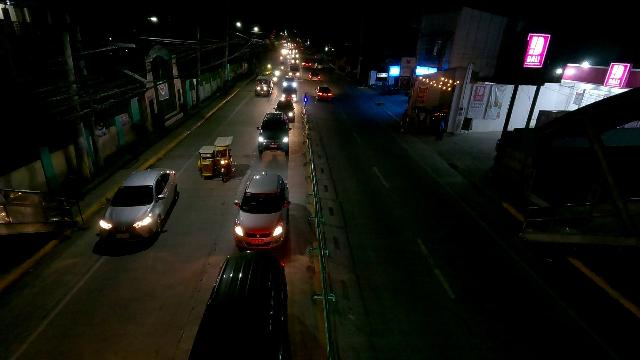car: (186, 249, 290, 360), (98, 168, 179, 241), (234, 171, 291, 250), (257, 112, 291, 156), (275, 97, 296, 121), (281, 77, 298, 93), (316, 85, 333, 100), (282, 86, 297, 103), (288, 64, 300, 79), (309, 71, 322, 80), (302, 60, 312, 67)
jeepney: (255, 74, 273, 96)
